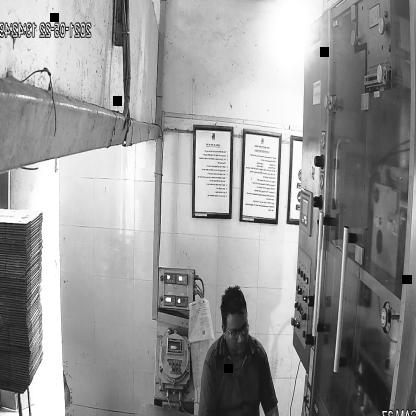goggles: (225, 320, 252, 343)
